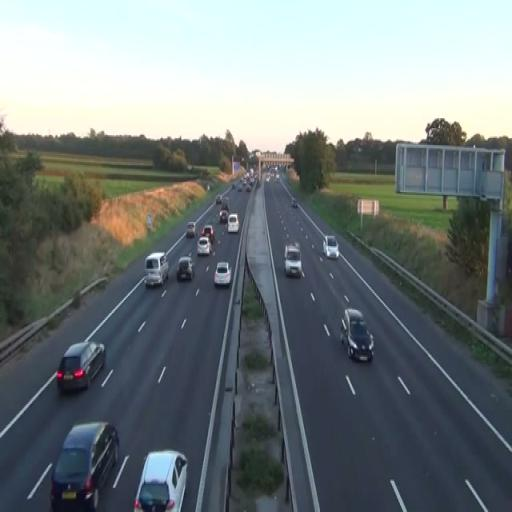Car: (50, 421, 120, 511), (134, 449, 188, 512), (56, 339, 106, 395), (340, 308, 374, 363), (284, 243, 302, 278), (177, 256, 195, 282), (214, 262, 232, 287), (322, 235, 340, 260), (197, 236, 211, 256), (227, 213, 239, 234)
Truck: (144, 251, 170, 288)
